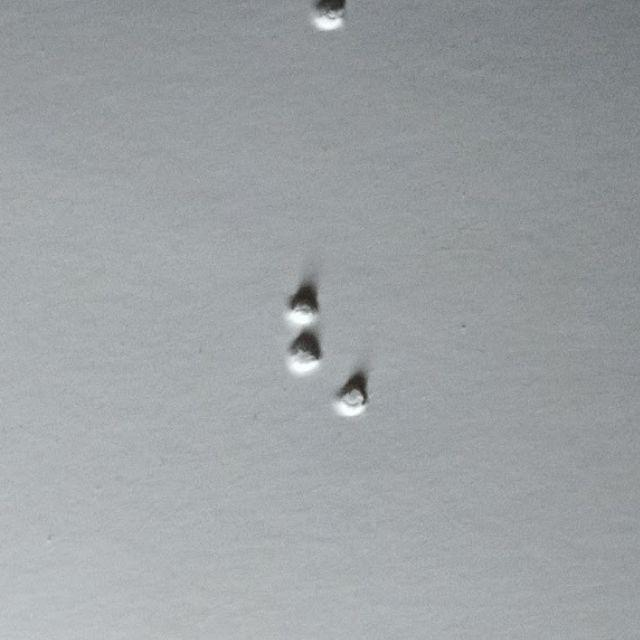ng: (286, 285, 367, 420)
